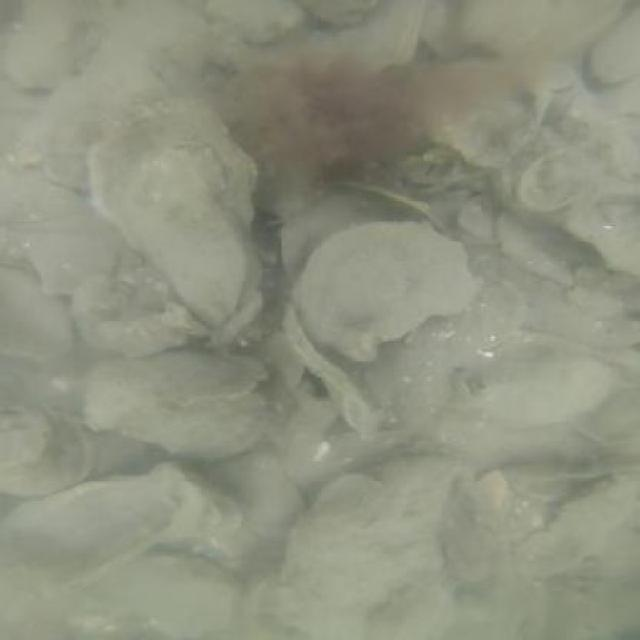Oyster-Closed: (276, 306, 382, 438), (319, 170, 457, 241), (501, 454, 638, 504), (390, 144, 469, 185), (290, 0, 379, 28)
Oyster-Indeterminate: (274, 456, 467, 640), (289, 218, 477, 362), (0, 464, 220, 582), (88, 97, 257, 249), (125, 139, 248, 326), (396, 52, 557, 172), (81, 382, 273, 459), (506, 477, 640, 578), (99, 551, 238, 639), (460, 350, 612, 429), (95, 349, 266, 406), (74, 277, 191, 355), (208, 448, 304, 539), (562, 181, 636, 280), (495, 210, 580, 290), (512, 143, 601, 217), (202, 0, 305, 47), (381, 452, 456, 497), (319, 473, 384, 524), (596, 13, 640, 80)
Oyster-Open: (0, 397, 100, 500)
